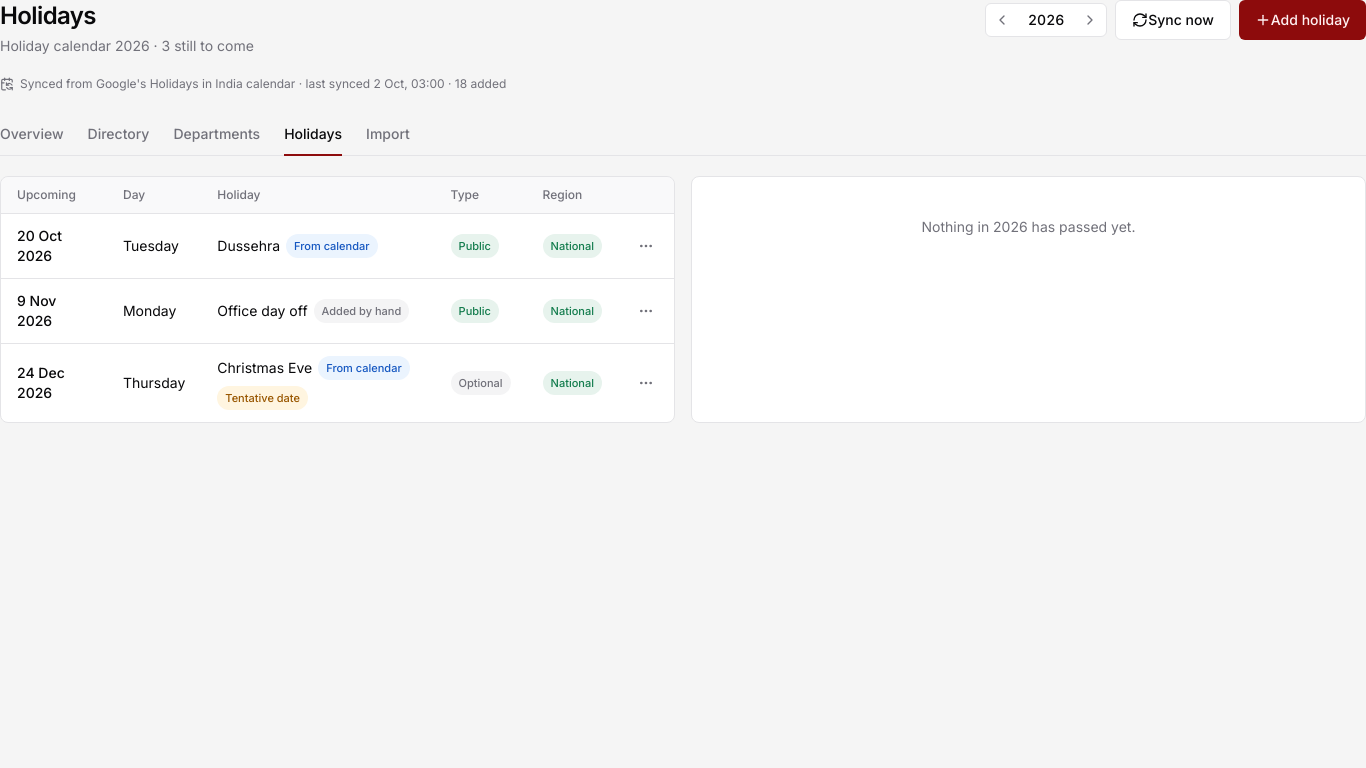
it: the rows › editing a calendar row says the edit keeps the person's version
Press the mouse on the button named "Actions for Dussehra" at (646, 246), box [634,234,658,258]
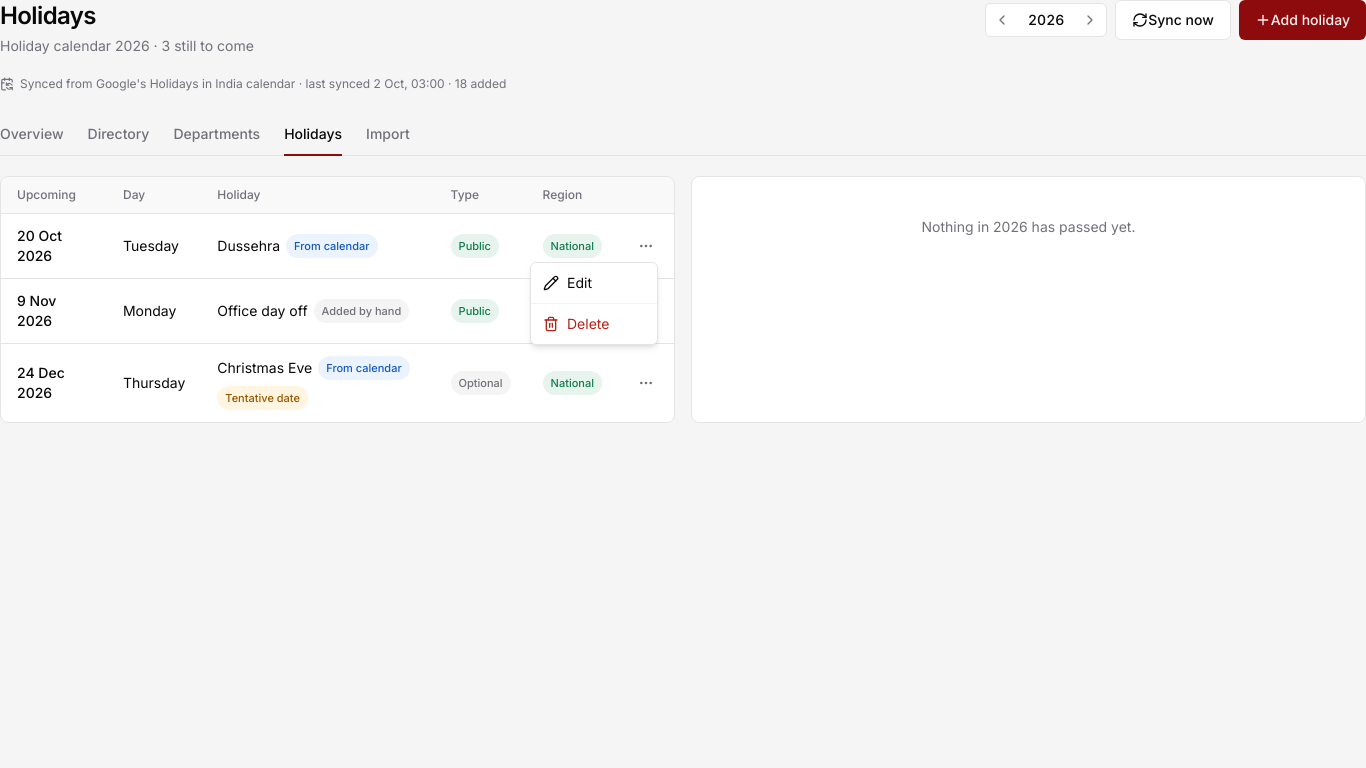
Click the menu item "Edit". click: (568, 282)
box: [543,274,592,291]
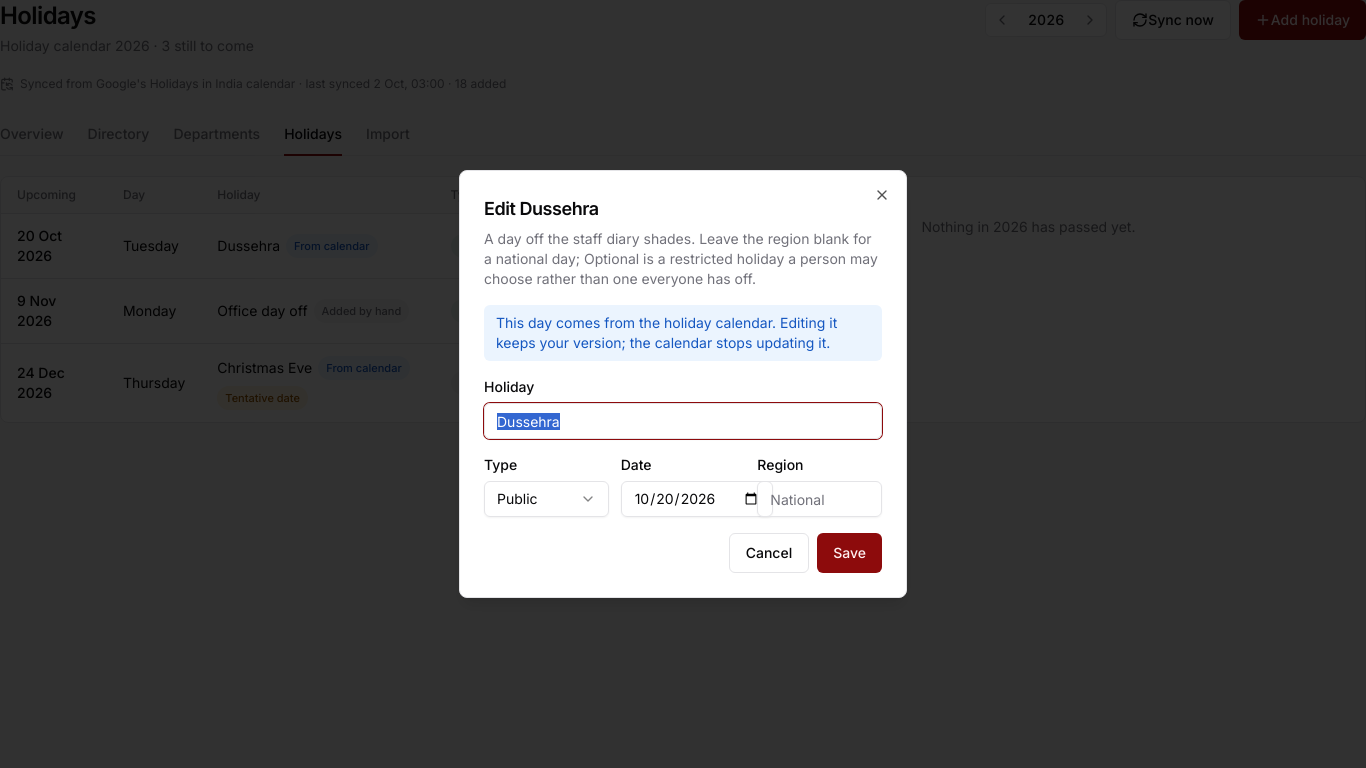
Now the text with test id "holiday-calendar-edit-note" shows "Editing it keeps your version; the calendar stops updating it.", box [496,314,837,351]
